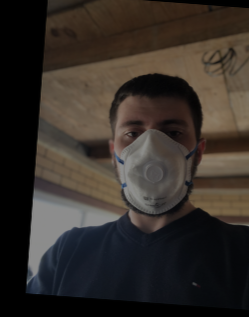with_mask: (113, 109, 196, 216)
